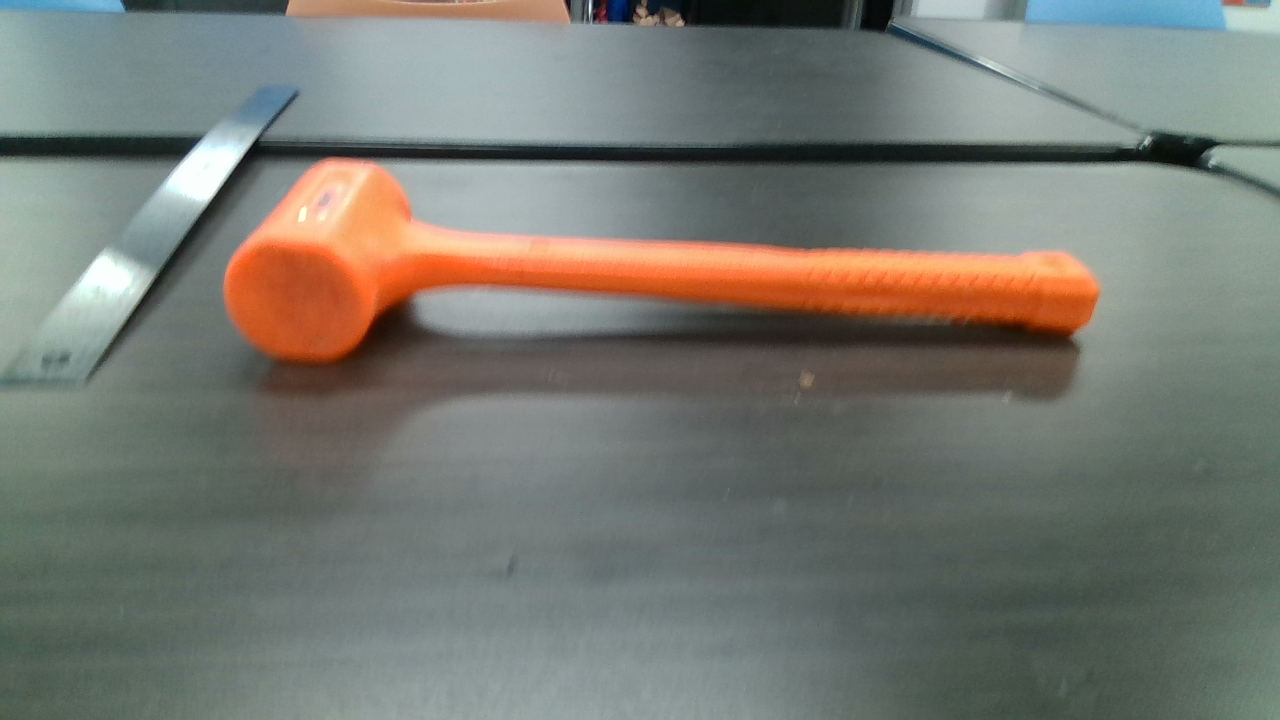Orange Hammer: (234, 156, 1097, 364)
